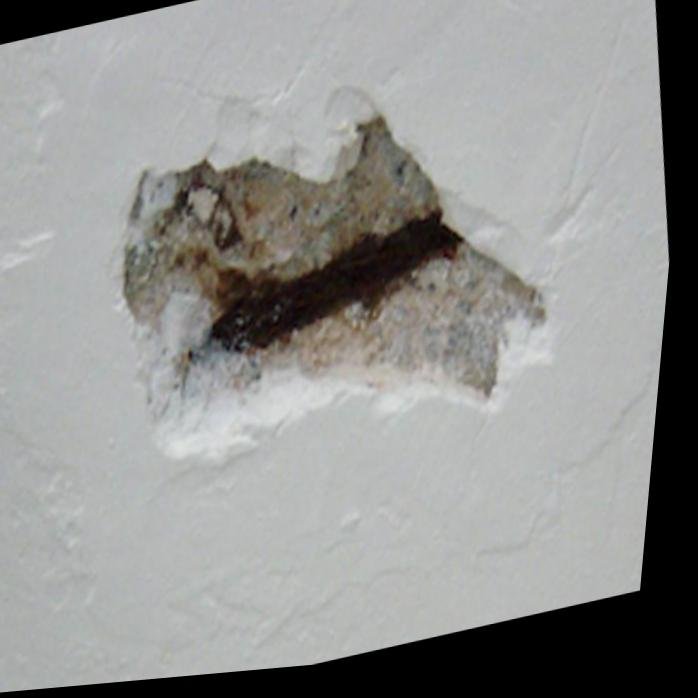damage: (129, 123, 552, 409)
